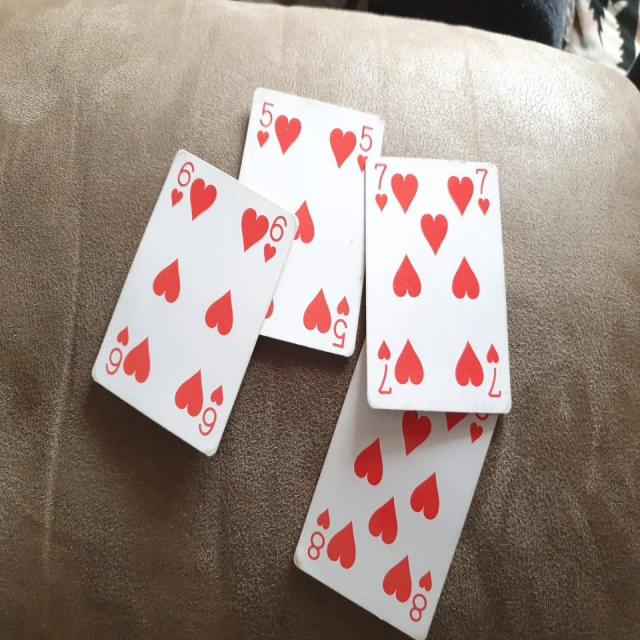5 Hearts: (234, 85, 390, 362)
6 Hearts: (87, 140, 299, 462)
7 Hearts: (357, 151, 522, 422)
8 Hearts: (292, 333, 527, 640)
